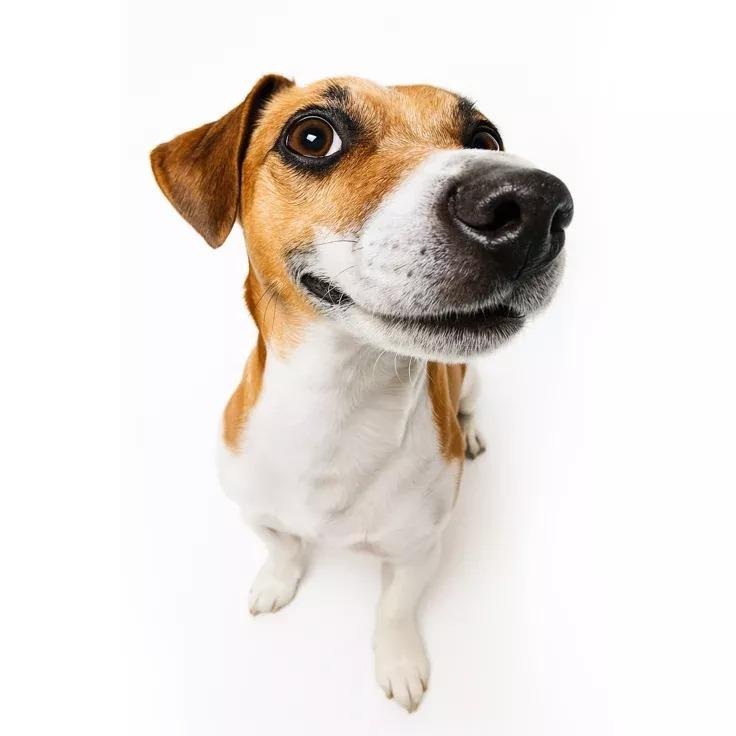adult_dog: (149, 74, 577, 715)
